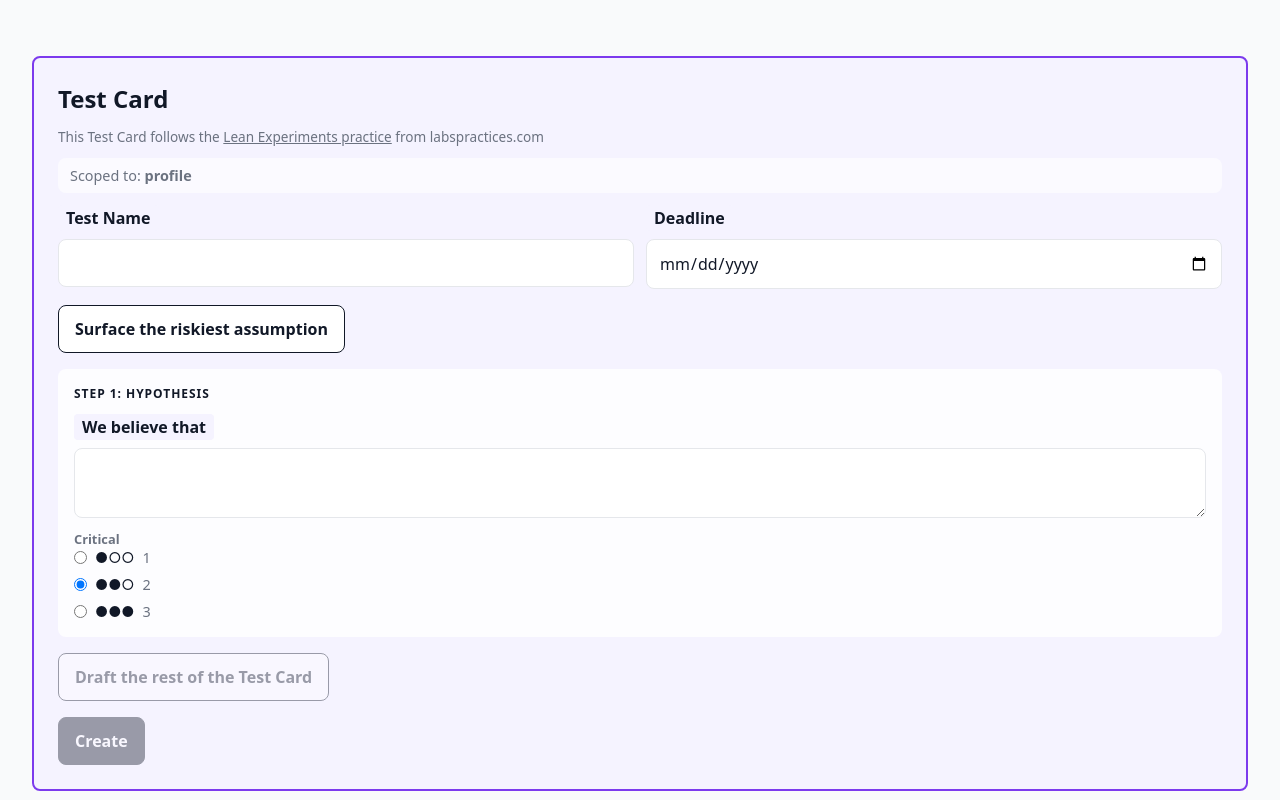
Test: CreateExperimentForm (Test Card) › surfaces a Claude-proposed assumption into the editable hypothesis field
Click the button "Surface the riskiest assumption". click: (201, 329)
box: [58,305,345,353]
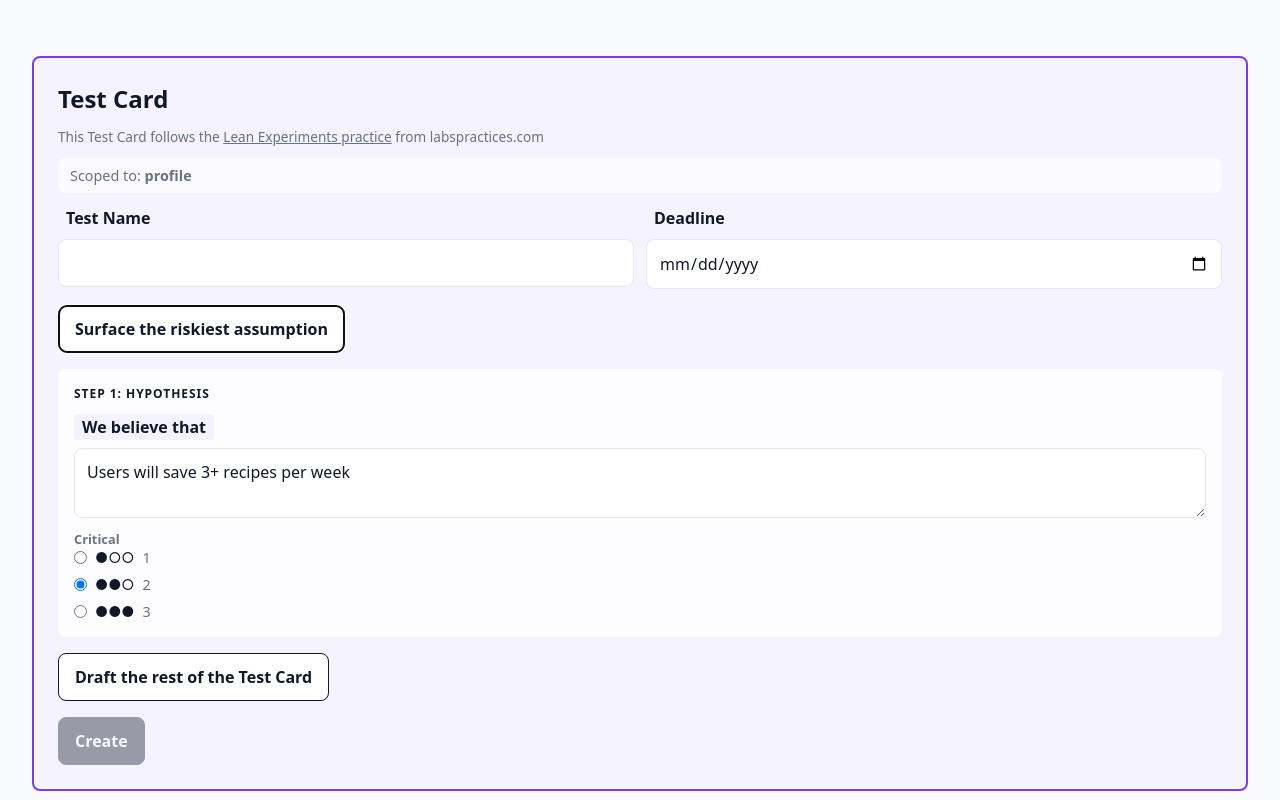
Expected: the text box labelled "We believe that" holds "Users will save 3+ recipes per week", [74,448,1206,518]
